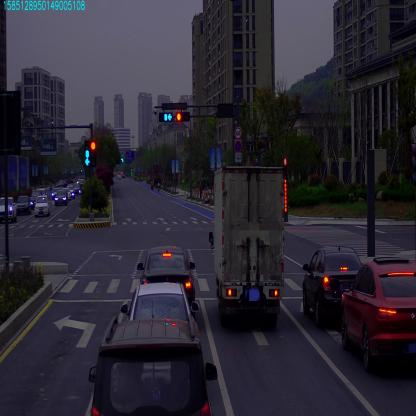traffic-light: (159, 112, 173, 122), (176, 113, 189, 120)
